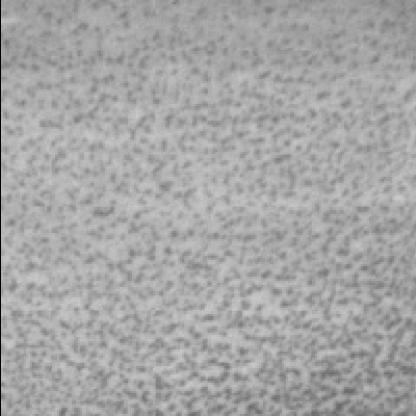pitted_surface: (4, 4, 416, 414)
